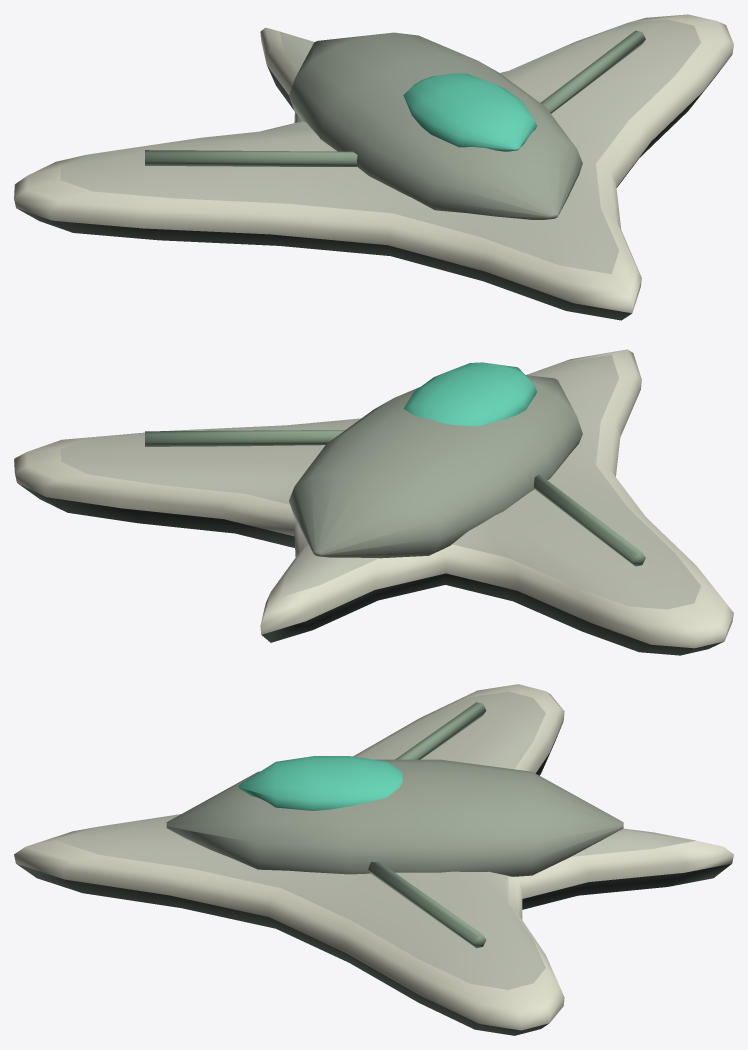
The model's file is NEA0001_source.obj.
The picture shows the model from 3 angles, top to bottom: view 1: azimuth 30°, elevation 25°; view 2: azimuth 150°, elevation 25°; view 3: azimuth 270°, elevation 25°; orthographic projection. The views are drawn at different scales.
Visible parts, largest first — view 1: NEA0001; view 2: NEA0001; view 3: NEA0001.
Part boxes in pixels (<box>): NEA0001: <box>14,14,733,320</box>; NEA0001: <box>14,349,733,655</box>; NEA0001: <box>14,684,733,1035</box>.
Bounding box in the file's own units: 18.74 × 3.04 × 17.
Materials: 1 (1 with a texture image).
